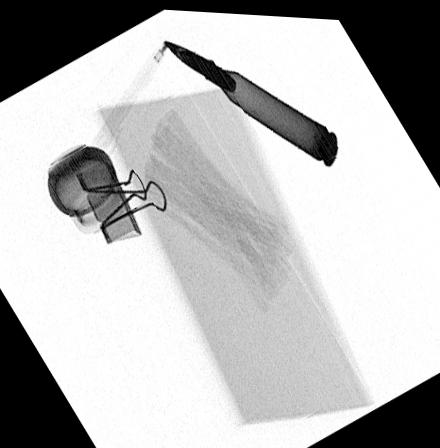Bullet: (160, 37, 339, 164)
